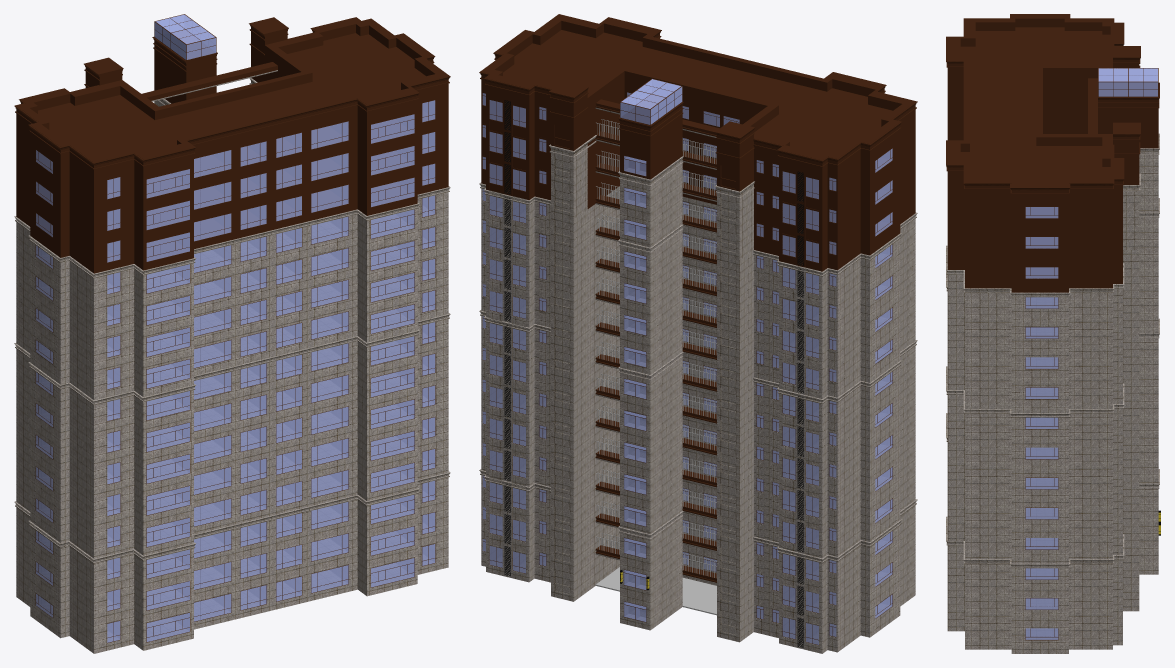
Rendered from shimao.fbx.
3 views of the same model, side by side, from view 1: azimuth 30°, elevation 25°; view 2: azimuth 150°, elevation 25°; view 3: azimuth 270°, elevation 25° (orthographic). The views are drawn at different scales.
Parts seen in each view (by area): view 1: 主体材质, 蓝色玻璃, 深棕色大楼, 棕色窗框; view 2: 主体材质, 深棕色大楼, 蓝色玻璃, Default material, 棕色窗框, 黑色; view 3: 主体材质, 深棕色大楼, 蓝色玻璃, 棕色窗框.
Boxes of the visible parts, <box> form: 主体材质: <box>14,70,450,653</box>; 蓝色玻璃: <box>36,14,435,642</box>; 深棕色大楼: <box>14,17,450,273</box>; 棕色窗框: <box>35,14,435,643</box>; 主体材质: <box>479,107,917,653</box>; 深棕色大楼: <box>479,14,917,582</box>; 蓝色玻璃: <box>482,79,892,644</box>; Default material: <box>595,119,716,615</box>; 棕色窗框: <box>482,78,892,645</box>; 黑色: <box>504,100,803,647</box>; 主体材质: <box>946,133,1159,653</box>; 深棕色大楼: <box>946,14,1159,292</box>; 蓝色玻璃: <box>1025,68,1157,639</box>; 棕色窗框: <box>1025,68,1158,640</box>.
Size of the model in its own units: 163 by 84.82 by 215.
7 materials, 1 textured.
